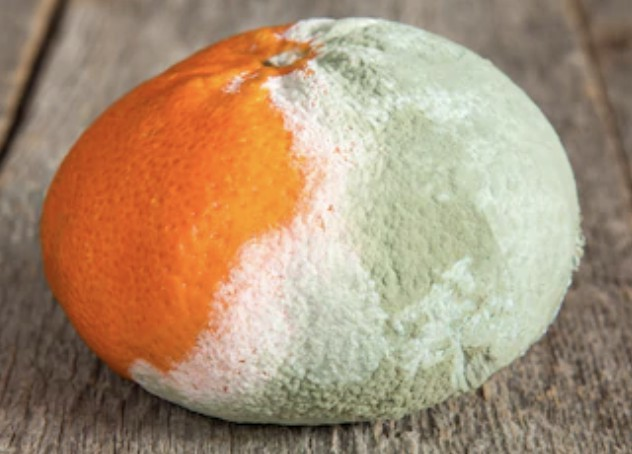rotten_orange: (44, 22, 582, 424)
